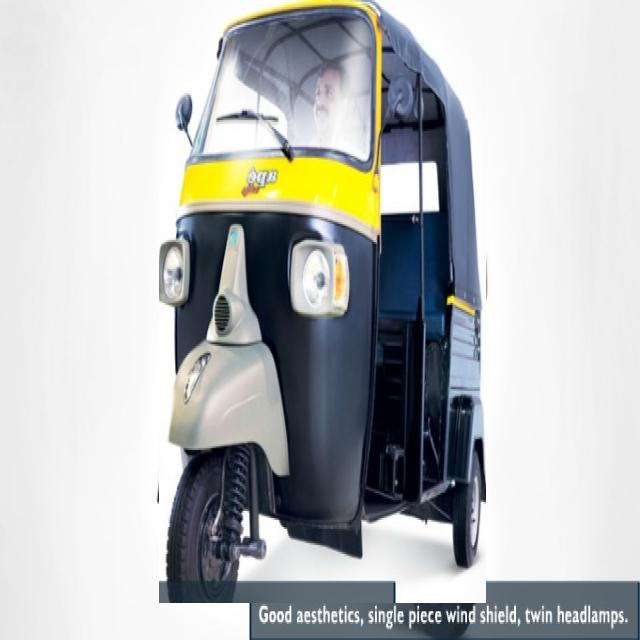autorickshaw: (159, 0, 486, 603)
